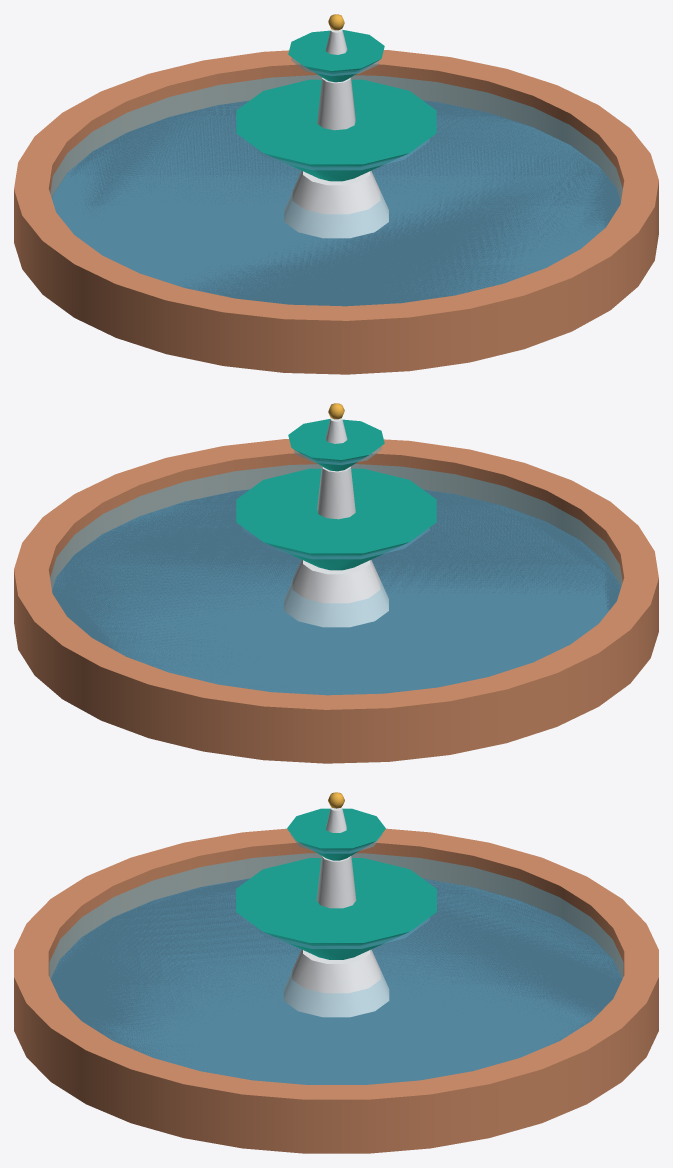
Rendered from CM_Prop_Fountain.fbx.
3 renders of one model, top to bottom at view 1: azimuth 30°, elevation 25°; view 2: azimuth 150°, elevation 25°; view 3: azimuth 270°, elevation 25°, orthographic.
Visible parts, largest first — view 1: Body, Water; view 2: Body, Water; view 3: Body, Water.
Part boxes in pixels (<box>): Body: <box>14,14,658,374</box>; Water: <box>50,58,622,305</box>; Body: <box>14,403,658,763</box>; Water: <box>50,447,622,695</box>; Body: <box>14,792,658,1153</box>; Water: <box>49,834,623,1084</box>.
Size of the model in its own units: 26 by 26 by 10.
Materials: 2 (2 with a texture image).
